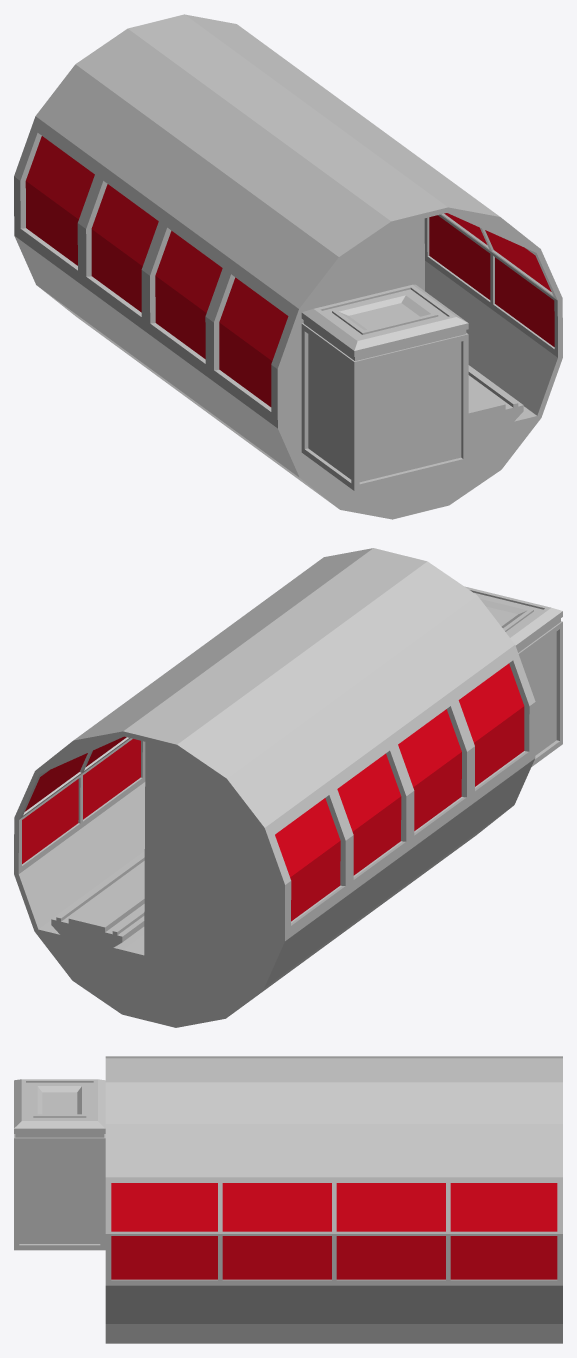
The model's file is SM_monorail_station_01.gltf.
3 renders of one model, top to bottom at view 1: azimuth 30°, elevation 25°; view 2: azimuth 150°, elevation 25°; view 3: azimuth 270°, elevation 25°, orthographic. The views are drawn at different scales.
Parts seen in each view (by area): view 1: monorail_station_01; view 2: monorail_station_01; view 3: monorail_station_01.
Boxes of the visible parts, x1,y1,x2,y2 form: monorail_station_01: (14,14,562,519); monorail_station_01: (14,548,562,1027); monorail_station_01: (14,1056,562,1343).
Bounding box in the file's own units: 5 × 5 × 9.6.
